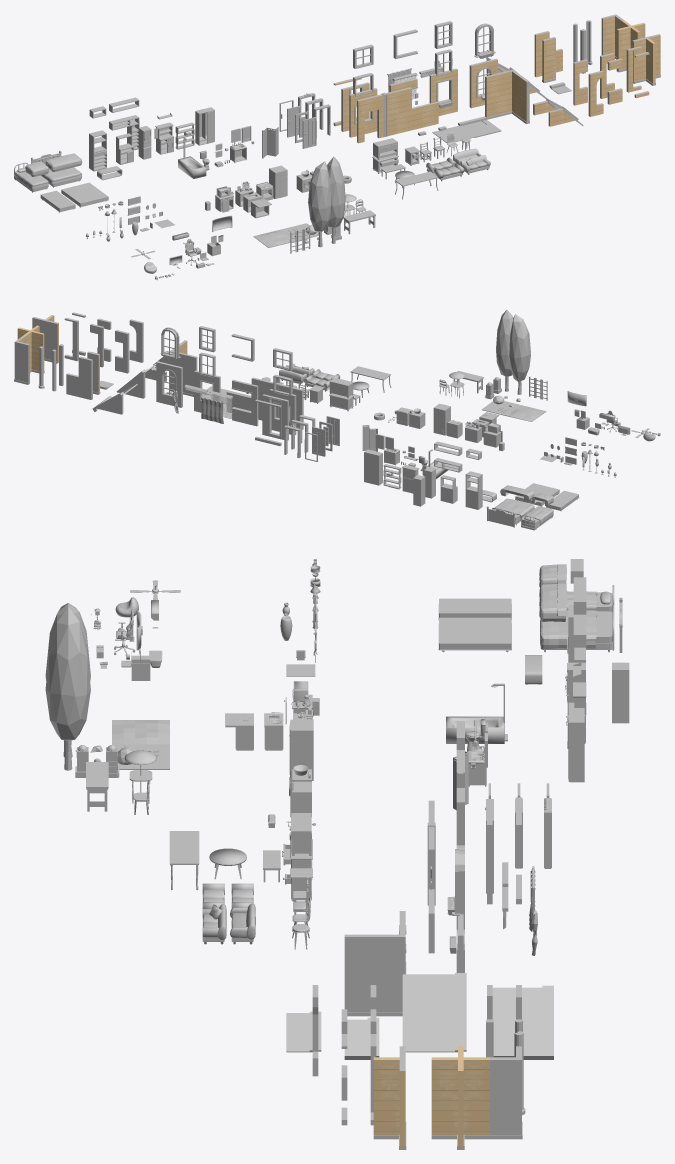
File: Home Set - VNB.obj
3 renders of one model, top to bottom at view 1: azimuth 30°, elevation 25°; view 2: azimuth 150°, elevation 25°; view 3: azimuth 270°, elevation 25°, orthographic. The views are drawn at different scales.
Visible parts, largest first — view 1: Wall_Standard_(Corner)_Alt, Big_Tree_2, Wall_Standard_1x3_X3, Wall_Standard, Big_Tree_1, Wall_Standard_(Door), Wall_Standard_1x3_X, Bed_Base_1_(2), Wall_Standard_(Window_3), Wall_Standard_1x3_(Corner), Wall_Standard_(Window_1), Drawer_1 (+22 smaller); view 2: Big_Tree_2, Big_Tree_1, Wall_Standard_(Corner)_Alt, Wall_Standard_1x3_X3, Wall_Standard_(Window_4), Wall_Standard_1x3_X, Wall_Standard_(Window_2), Wall_Standard_1x3_(Corner), Wardrobe, Wall_Standard_(Window_5), Drawer_1, Wall_Standard_1x3 (+26 smaller); view 3: Big_Tree_1, Wall_Standard_(Corner)_Alt, Wall_Standard_1x3_X, Roof_45deg, Roof, Wall_Standard_1x3_X3, Wall_Standard_1x3_(Corner), Bed_Base_1_(2), Bed_Base_1_(1), Terrain_2, Bed_(2)_Sheets, Wardrobe (+11 smaller).
Boxes of the visible parts, x1=… form: Wall_Standard_(Corner)_Alt: x1=485, y1=69, x2=529, y2=123; Big_Tree_2: x1=308, y1=161, x2=331, y2=247; Wall_Standard_1x3_X3: x1=632, y1=34, x2=660, y2=85; Wall_Standard: x1=386, y1=87, x2=411, y2=136; Big_Tree_1: x1=327, y1=156, x2=345, y2=243; Wall_Standard_(Door): x1=357, y1=94, x2=383, y2=143; Wall_Standard_1x3_X: x1=617, y1=20, x2=645, y2=71; Bed_Base_1_(2): x1=61, y1=182, x2=108, y2=207; Wall_Standard_(Window_3): x1=429, y1=68, x2=457, y2=115; Wall_Standard_1x3_(Corner): x1=601, y1=14, x2=624, y2=56; Wall_Standard_(Window_1): x1=349, y1=88, x2=377, y2=137; Drawer_1: x1=89, y1=130, x2=106, y2=171; Big_Tree_2: x1=509, y1=314, x2=530, y2=394; Big_Tree_1: x1=496, y1=310, x2=513, y2=391; Wall_Standard_(Corner)_Alt: x1=169, y1=340, x2=197, y2=394; Wall_Standard_1x3_X3: x1=32, y1=315, x2=58, y2=362; Wall_Standard_(Window_4): x1=156, y1=361, x2=182, y2=407; Wall_Standard_1x3_X: x1=17, y1=325, x2=44, y2=372; Wall_Standard_(Window_2): x1=232, y1=379, x2=258, y2=426; Wall_Standard_1x3_(Corner): x1=14, y1=336, x2=29, y2=382; Wardrobe: x1=364, y1=449, x2=382, y2=485; Wall_Standard_(Window_5): x1=262, y1=394, x2=288, y2=440; Drawer_1: x1=465, y1=471, x2=482, y2=509; Wall_Standard_1x3: x1=78, y1=356, x2=92, y2=399; Big_Tree_1: x1=45, y1=606, x2=90, y2=770; Wall_Standard_(Corner)_Alt: x1=344, y1=911, x2=405, y2=1012; Wall_Standard_1x3_X: x1=431, y1=1046, x2=489, y2=1148; Roof_45deg: x1=402, y1=974, x2=457, y2=1052; Roof: x1=492, y1=987, x2=542, y2=1049; Wall_Standard_1x3_X3: x1=373, y1=1046, x2=405, y2=1149; Wall_Standard_1x3_(Corner): x1=490, y1=1046, x2=521, y2=1134; Bed_Base_1_(2): x1=438, y1=617, x2=511, y2=652; Bed_Base_1_(1): x1=438, y1=598, x2=511, y2=619; Terrain_2: x1=112, y1=720, x2=169, y2=744; Bed_(2)_Sheets: x1=540, y1=610, x2=597, y2=648; Wardrobe: x1=569, y1=708, x2=584, y2=782.
Size of the model in its own units: 44.61 by 6.73 by 20.08.
